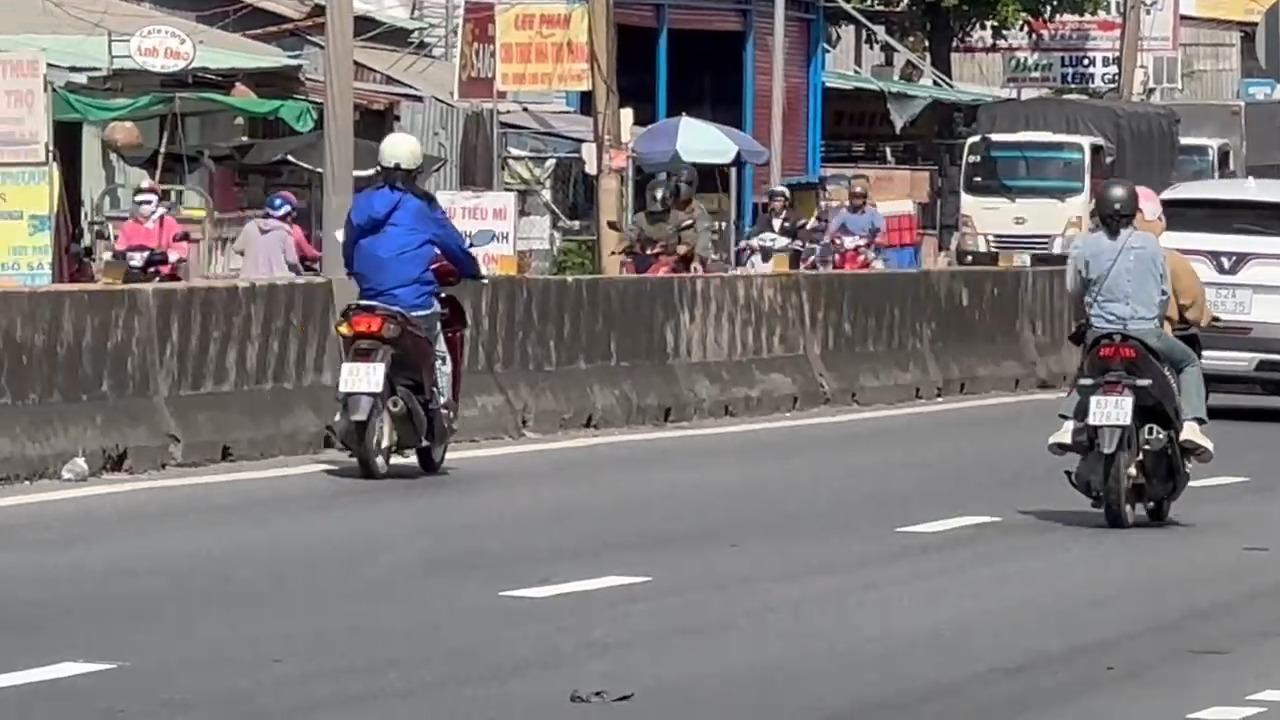bien_so: (337, 360, 385, 393), (1086, 393, 1133, 426)
